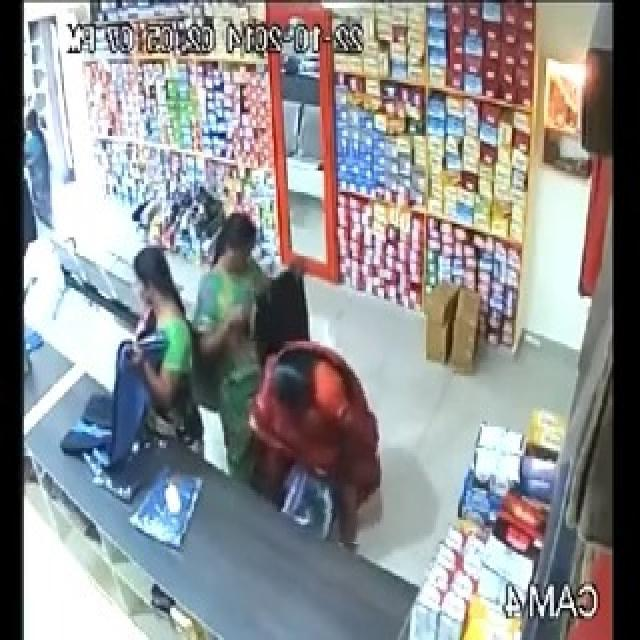Shoplifting: (235, 343, 380, 542)
